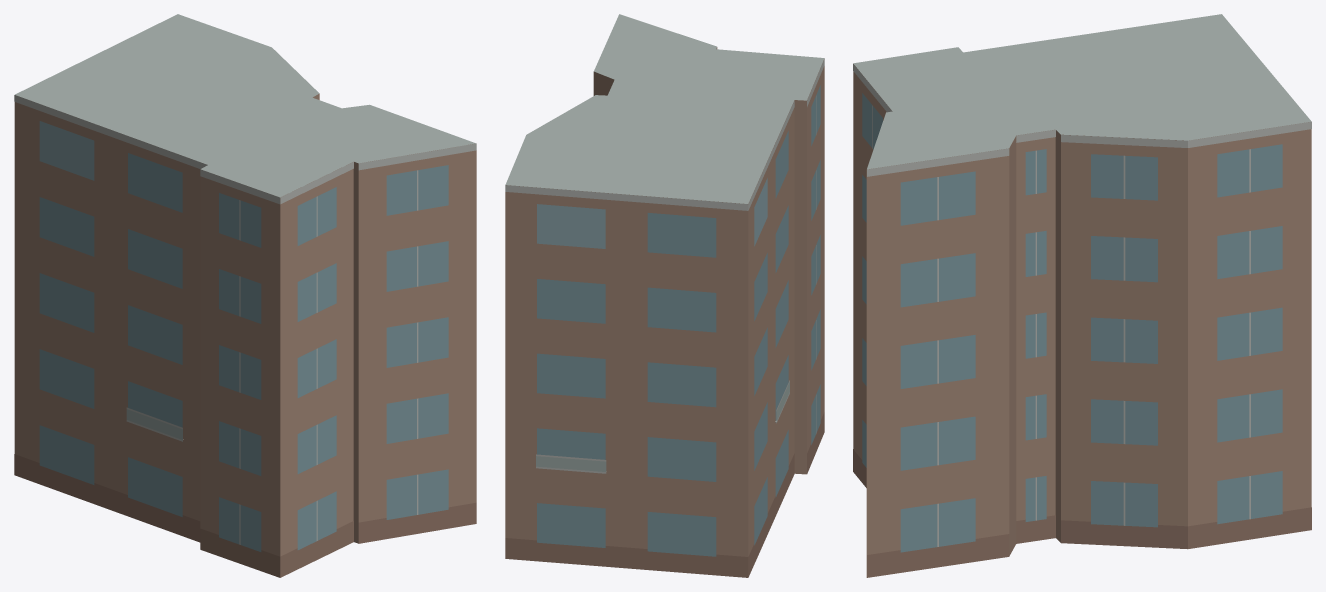
Rendered from survey-upis-32903822.glb.
3 renders of one model, left to right at view 1: azimuth 30°, elevation 25°; view 2: azimuth 150°, elevation 25°; view 3: azimuth 270°, elevation 25°, orthographic. The views are drawn at different scales.
Parts seen in each view (by area): view 1: survey-upis-32903822.tmp; view 2: survey-upis-32903822.tmp; view 3: survey-upis-32903822.tmp.
Part boxes in pixels (x1,y1,x2,y2): survey-upis-32903822.tmp: [14, 14, 476, 577]; survey-upis-32903822.tmp: [505, 14, 824, 577]; survey-upis-32903822.tmp: [853, 14, 1311, 577].
Bounding box in the file's own units: 10.86 × 13.3 × 13.55.
